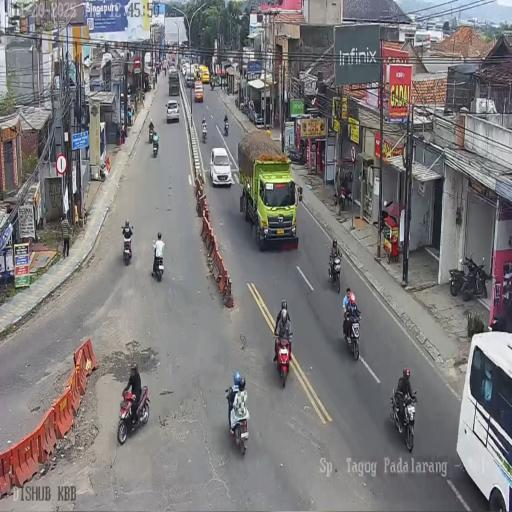3: (239, 130, 297, 252), (144, 51, 151, 75), (192, 63, 200, 80)
car: (456, 330, 512, 510), (209, 146, 232, 187), (247, 100, 262, 125), (166, 100, 180, 124), (199, 64, 210, 84), (194, 80, 204, 102), (185, 69, 195, 87), (176, 59, 182, 72), (169, 64, 176, 74), (181, 62, 186, 76)
truck: (118, 383, 150, 445), (226, 387, 250, 457), (390, 388, 416, 452), (461, 253, 489, 302), (272, 330, 293, 388), (342, 310, 362, 361), (328, 249, 342, 293), (151, 246, 164, 282), (286, 141, 305, 165), (122, 231, 132, 264), (240, 98, 249, 116), (152, 138, 159, 158), (223, 118, 229, 136), (202, 125, 208, 143), (149, 126, 154, 144), (210, 78, 215, 90), (163, 65, 166, 76)
